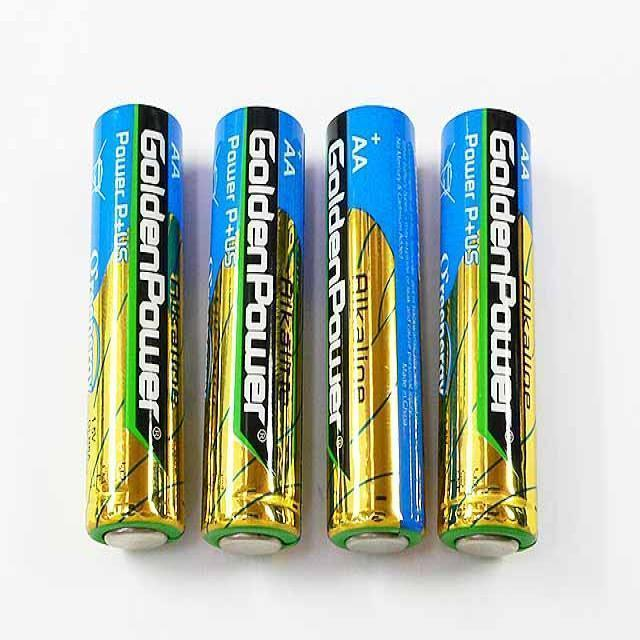Hazard: (198, 105, 308, 558), (322, 102, 428, 557), (434, 107, 538, 560), (86, 100, 188, 554)
